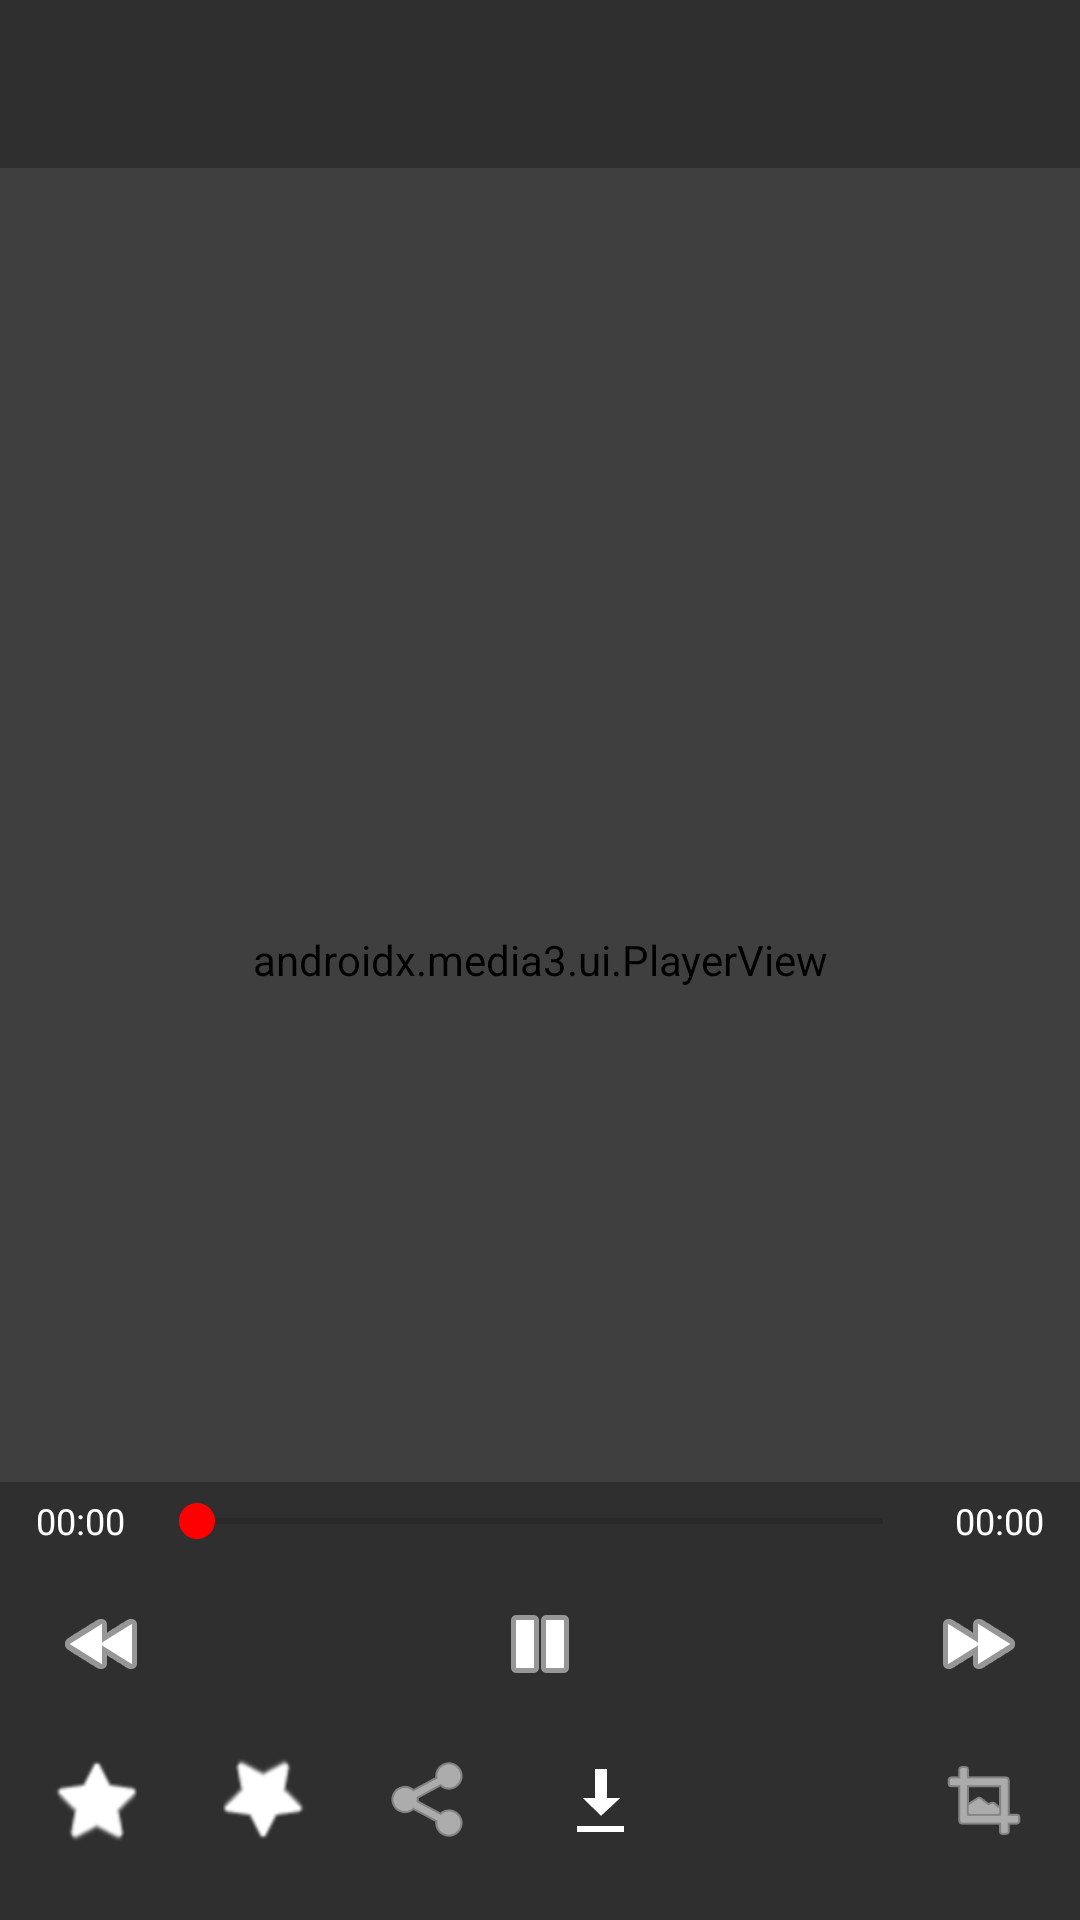

Icons on this 1080w x 1920h Android screen, each with its box as Rect(x1, y1, x2, y2):
أعجبني: Rect(57, 1762, 137, 1840)
تحميل: Rect(577, 1769, 624, 1832)
تشغيل/إيقاف: Rect(511, 1615, 569, 1673)
تقديم 10 ثوانٍ: Rect(943, 1619, 1015, 1669)
رجوع 10 ثوانٍ: Rect(65, 1619, 137, 1669)
مشاركة: Rect(391, 1762, 463, 1837)
